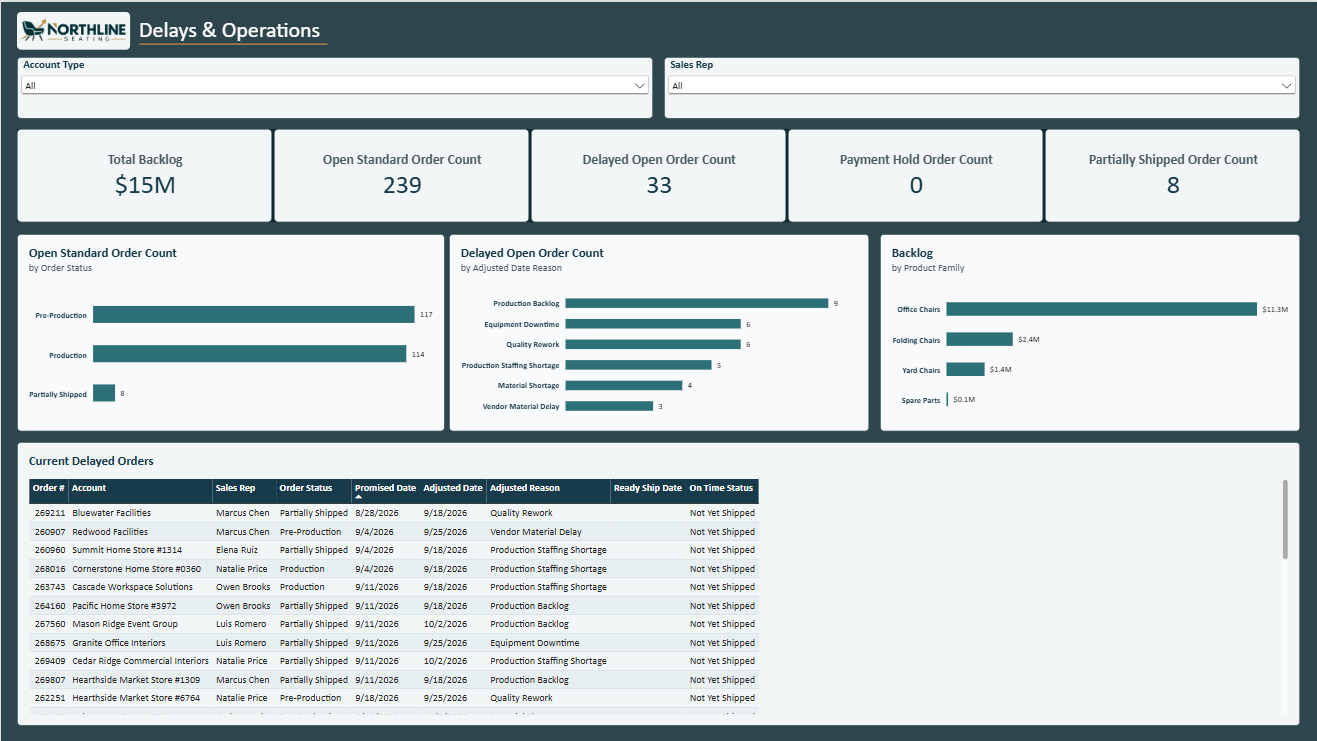

Layout of this report page (visuals, bound fields, positions):
{"tool":"powerbi","page":{"name":"Delays & Operations","canvas":[1920,1080],"ordinal":10},"visuals":[{"type":"shape","box":[202.3,55,275,12],"z":0,"group":"g1"},{"type":"slicer","fields":{"Values":["Accounts.Account Type"]},"box":[24,80,928,90],"z":0},{"type":"textbox","box":[202.2,20,720.9,39.9],"z":1000,"group":"g1"},{"type":"slicer","fields":{"Values":["Sales Rep.Sales Rep"]},"box":[968,80,928,90],"z":1000},{"type":"image","box":[24,14,165,55],"z":2000,"group":"g1"},{"type":"cardVisual","fields":{"Data":["Measures_.Total Backlog","Measures_.Open Standard Order Count","Measures_.Delayed Open Order Count","Measures_.Payment Hold Order Count","Measures_.Partially Shipped Order Count"]},"box":[24,186,1872,136],"z":2000},{"type":"clusteredBarChart","fields":{"Category":["Orders.Order Status"],"Y":["Measures_.Open Standard Order Count"]},"box":[24,338,624,288],"z":3000},{"type":"clusteredBarChart","fields":{"Category":["Orders.Adjusted Date Reason"],"Y":["Measures_.Delayed Open Order Count"]},"box":[653,338,613,288],"z":4000},{"type":"clusteredBarChart","title":"Backlog","fields":{"Category":["Product Reference.Product Family"],"Y":["Measures_.Total Backlog"]},"box":[1283,338,613,288],"z":5000},{"type":"tableEx","title":"Current Delayed Orders","fields":{"Values":["Orders.Order Number","Accounts.Account Name","Orders.Sales Rep","Orders.Order Status","Orders.Promised Ship Date","Orders.Adjusted Promised Ship Date","Orders.Adjusted Date Reason","Orders.Ready to Ship Date","Orders.On Time Status"]},"box":[24,642,1872,414],"z":6000},{"type":"group","id":"g1","title":"Group 1","box":[24,14,899.1,55],"z":7000}]}

Visuals, with their boxes in screenshot pixels (x1, y1, x2, y2), scaled from the page's 1920x1080 canvas onto the 1317x741 screenshot:
shape: box=[139, 38, 327, 46]
slicer - Accounts.Account Type: box=[16, 55, 653, 117]
textbox: box=[139, 14, 633, 41]
slicer - Sales Rep.Sales Rep: box=[664, 55, 1301, 117]
image: box=[16, 10, 130, 47]
cardVisual - Measures_.Total Backlog x Measures_.Open Standard Order Count: box=[16, 128, 1301, 221]
clusteredBarChart - Orders.Order Status x Measures_.Open Standard Order Count: box=[16, 232, 444, 430]
clusteredBarChart - Orders.Adjusted Date Reason x Measures_.Delayed Open Order Count: box=[448, 232, 868, 430]
"Backlog" clusteredBarChart: box=[880, 232, 1301, 430]
"Current Delayed Orders" tableEx: box=[16, 440, 1301, 725]
"Group 1" group: box=[16, 10, 633, 47]
